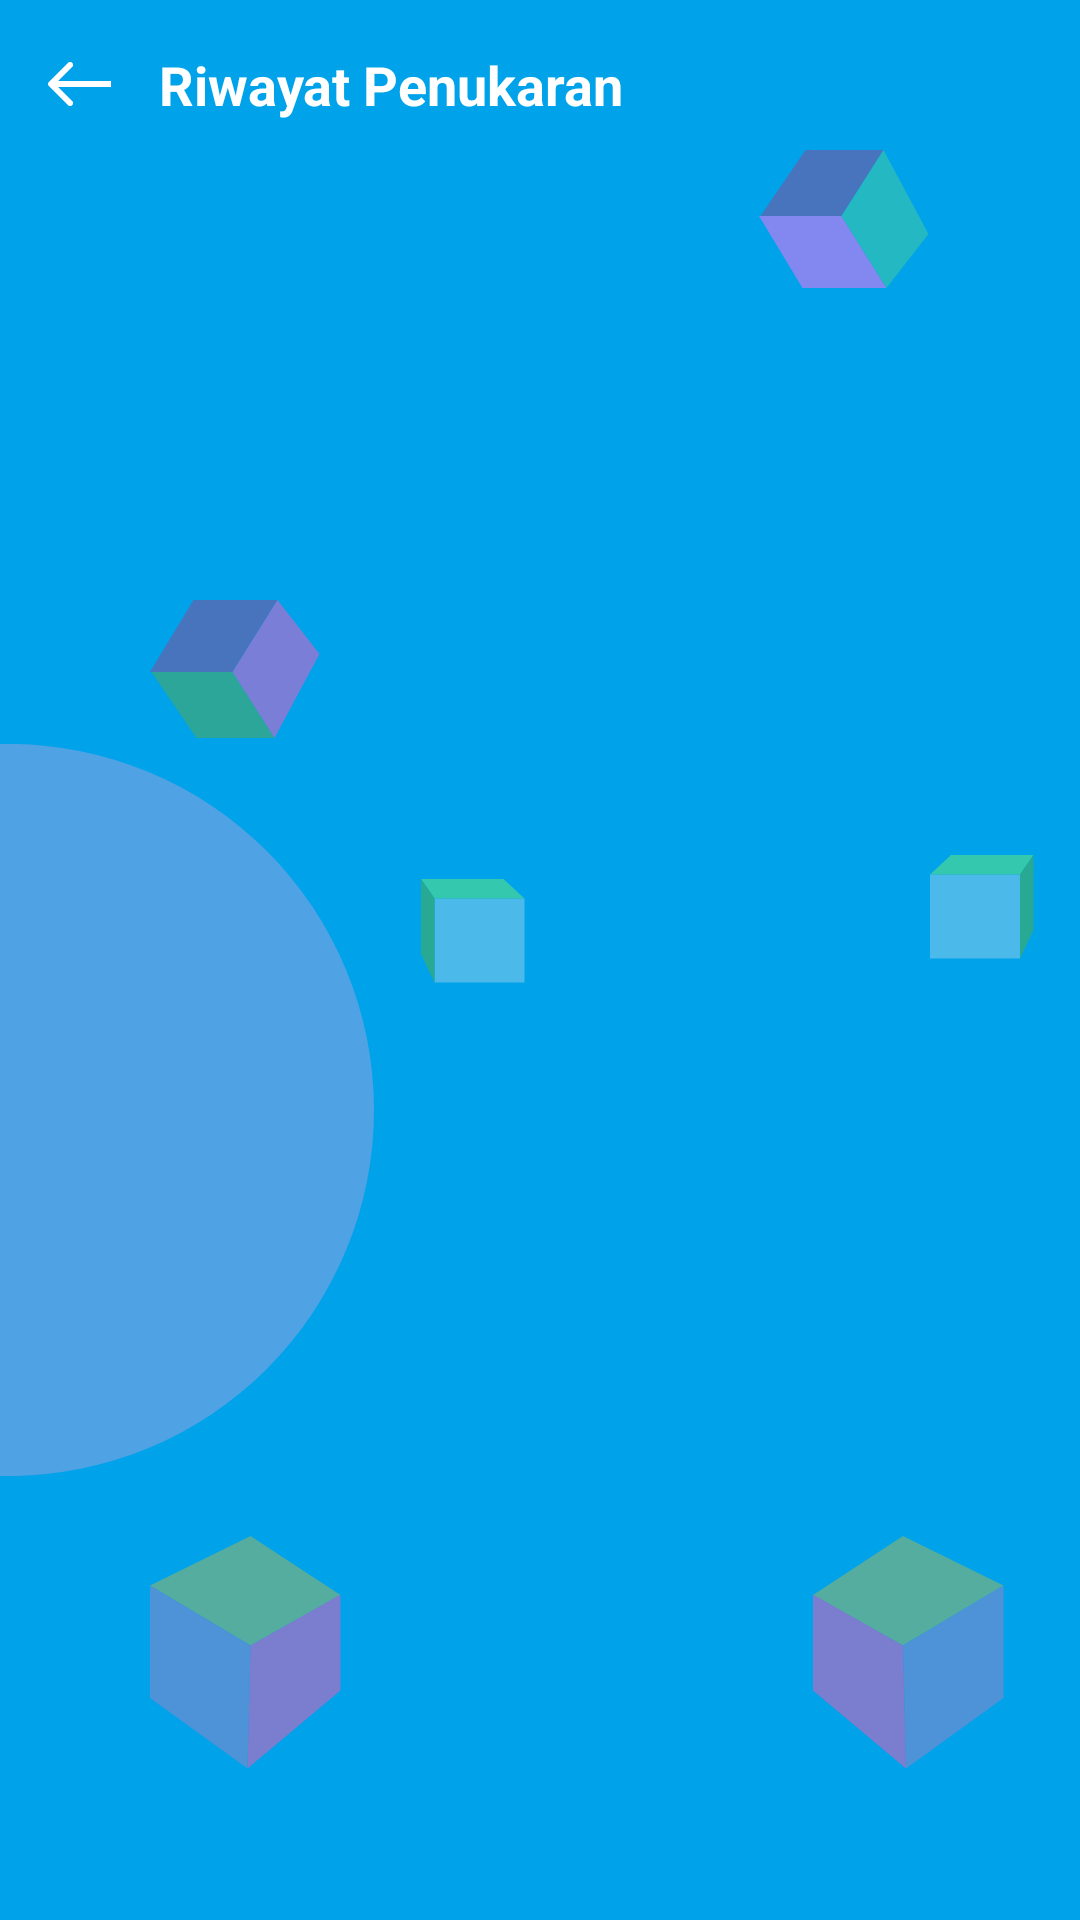

Icon click points for this 1080 x 1920 phone screenshot, format [x,y]:
arrow: [79,84]
cube bottom left: [245,1652]
cube bottom right: [908,1652]
cube middle left: [473,931]
cube middle right: [982,907]
cube top left: [235,669]
cube top right: [843,219]
